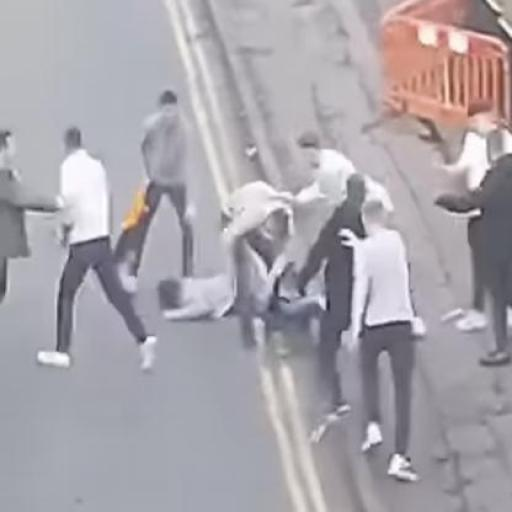Fighting: (0, 86, 425, 483)
